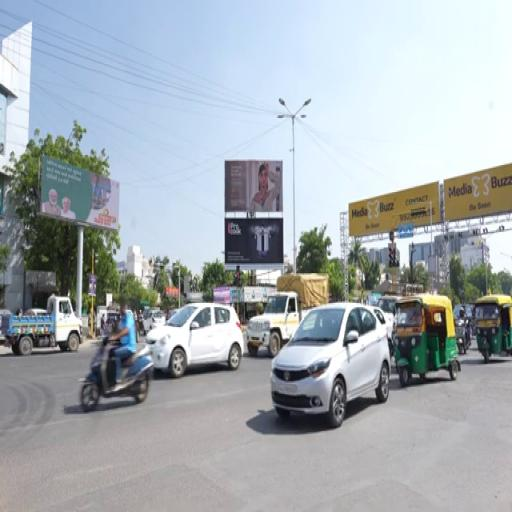Car: (271, 303, 390, 428), (147, 303, 243, 378), (371, 306, 395, 358), (371, 306, 394, 339), (144, 311, 165, 334), (104, 311, 121, 334), (24, 309, 47, 317)
